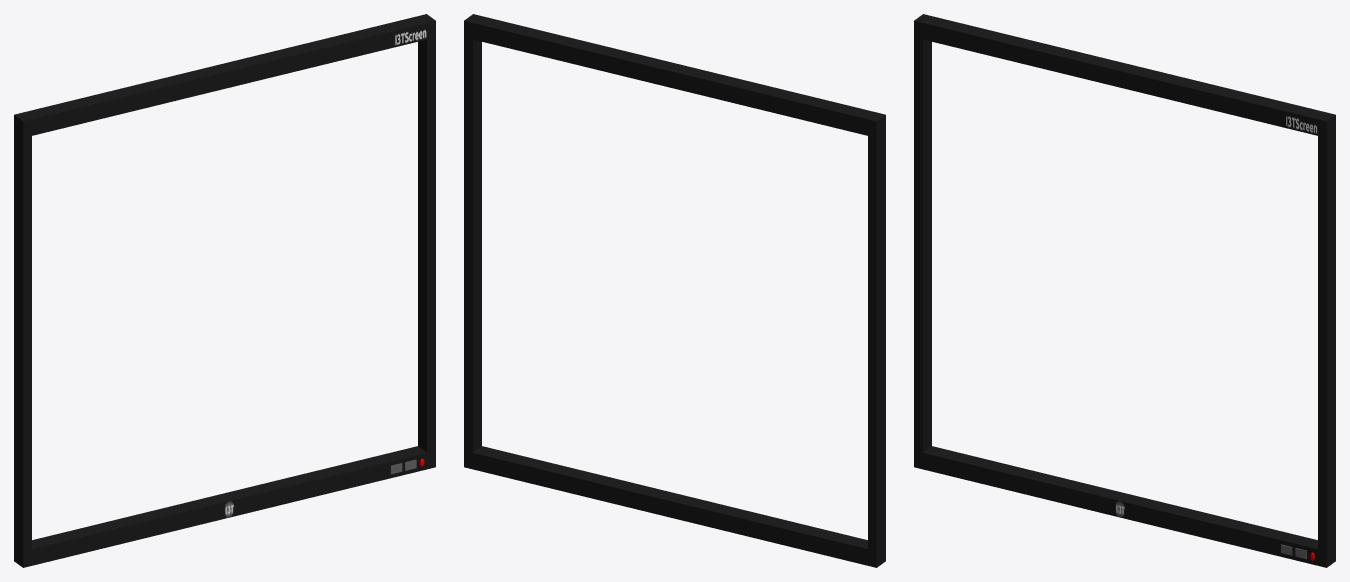
The model's file is monitor-frame.glb.
3 views of the same model, side by side, from view 1: azimuth 30°, elevation 25°; view 2: azimuth 150°, elevation 25°; view 3: azimuth 330°, elevation 25° (orthographic).
Parts seen in each view (by area): view 1: Monitor; view 2: Monitor; view 3: Monitor.
Part boxes in pixels (x1=…): Monitor: x1=14, y1=14, x2=435, y2=567; Monitor: x1=464, y1=14, x2=885, y2=567; Monitor: x1=914, y1=14, x2=1335, y2=567.
Size of the model in its own units: 1.05 by 1.08 by 0.0434.
1 material, 1 textured.
